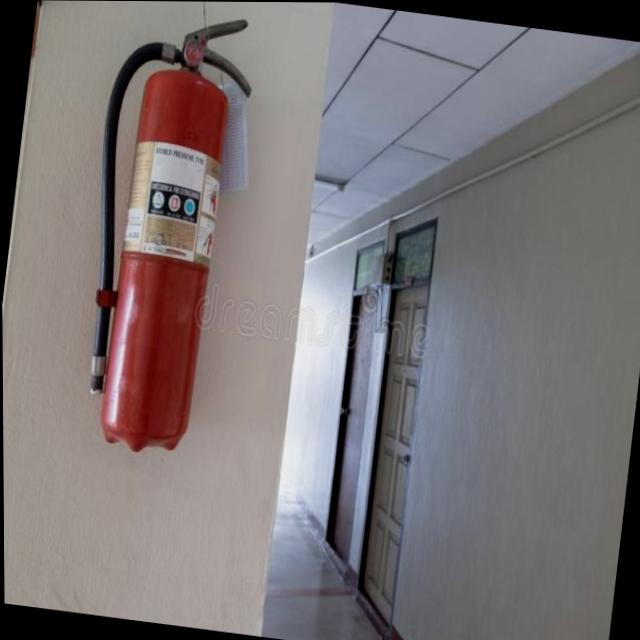FireExtinguisher: (55, 0, 266, 471)
